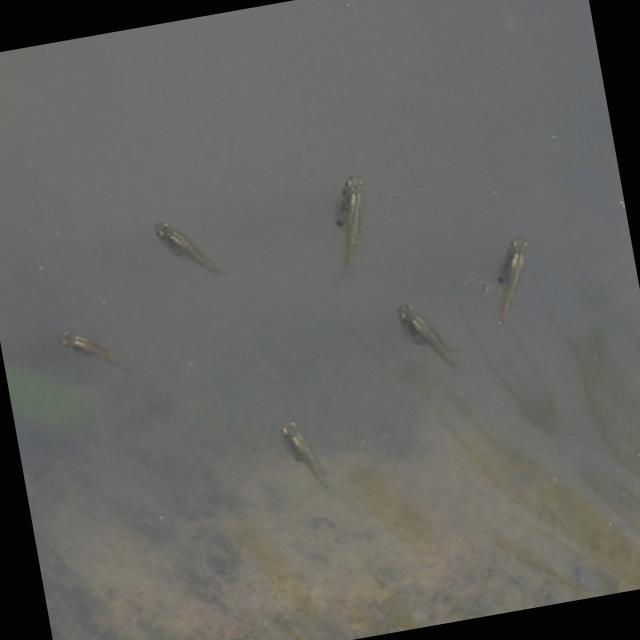Sivrisinek Baligi: (138, 209, 224, 285), (390, 296, 458, 377), (481, 236, 541, 322), (52, 315, 128, 382), (324, 173, 376, 268), (270, 411, 328, 490)
